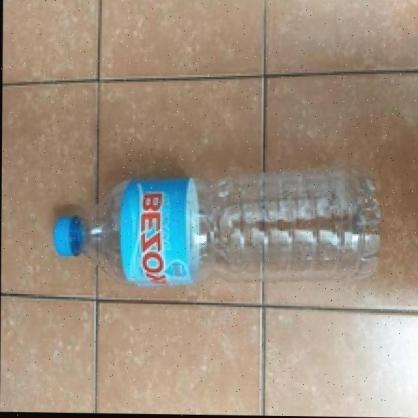bottle: (53, 165, 380, 292)
cap: (55, 216, 80, 259)
label: (120, 178, 198, 286)
